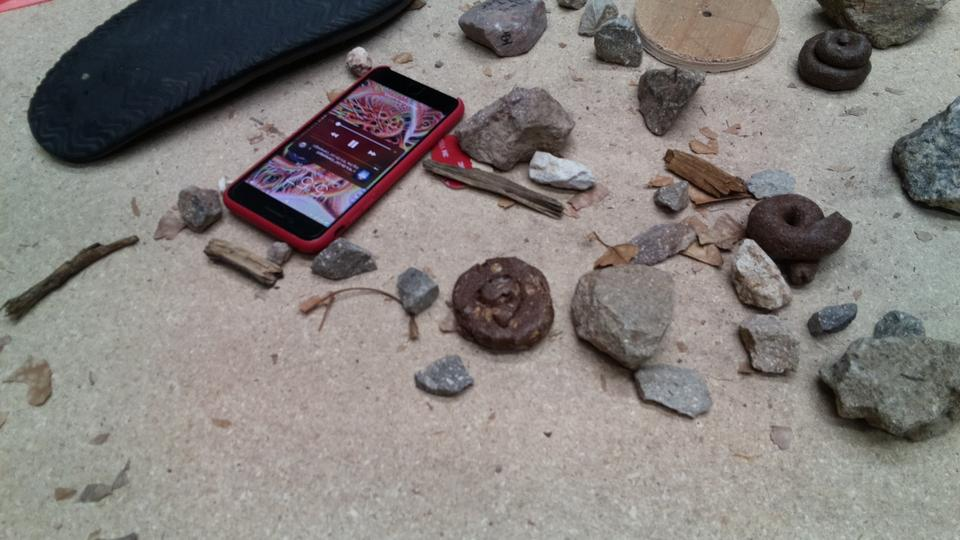poop: (449, 257, 559, 356), (746, 191, 854, 287), (796, 27, 874, 94)
